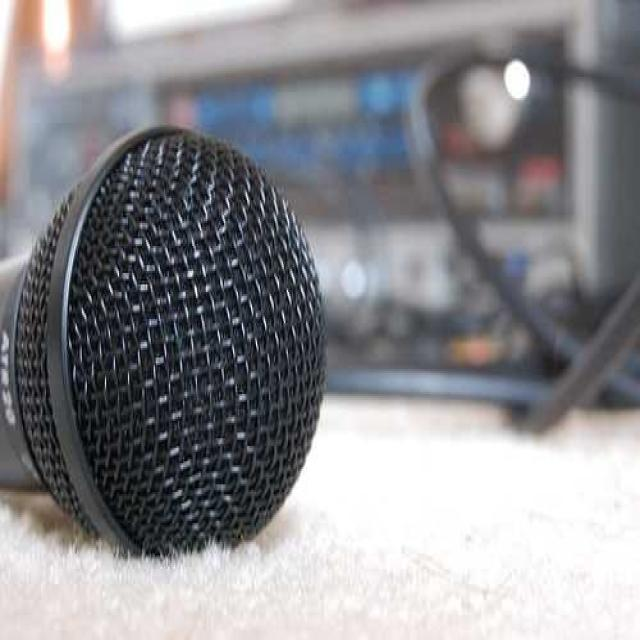microphone: (7, 130, 323, 554)
